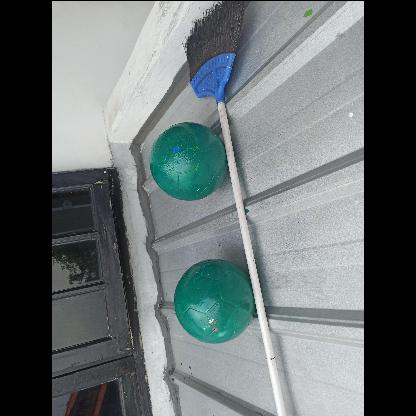green_ball: (173, 260, 255, 342), (146, 122, 226, 202)
